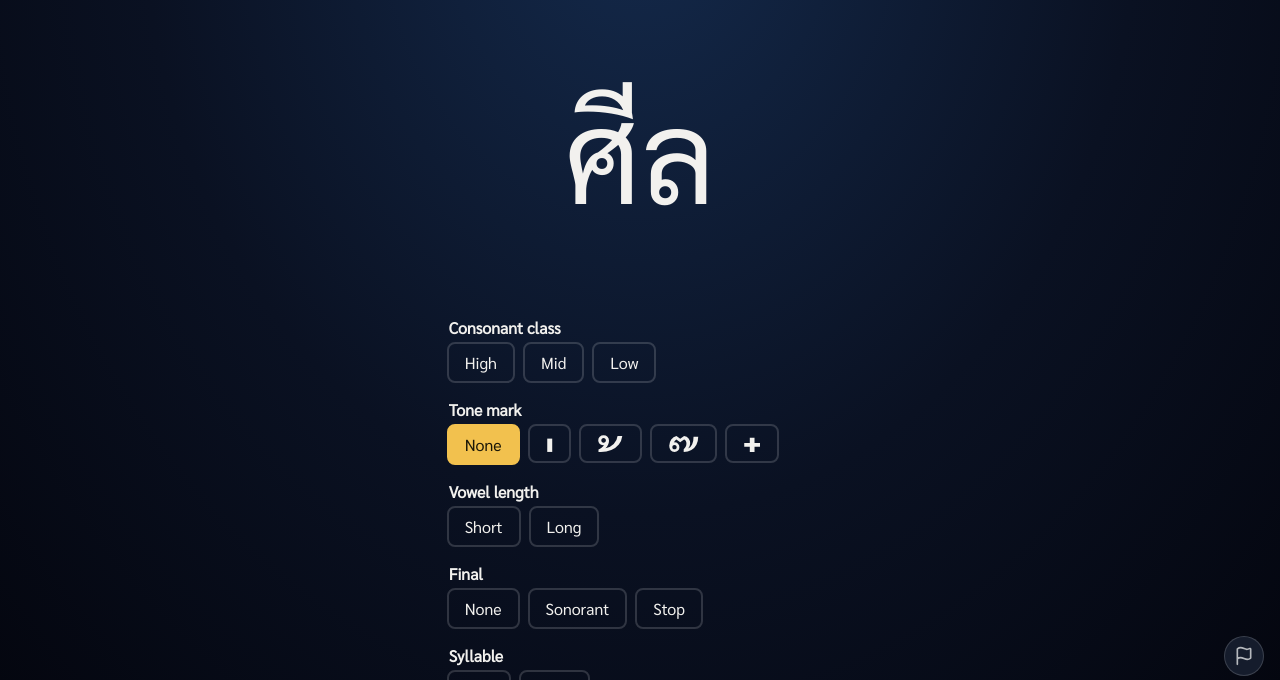
SyllablePage › validating a syllable with no tone mark › can only validate once all six rows have an answer
Click the 1st radio button labelled "High" at {"x": 481, "y": 362}, box x1=447 y1=342 x2=515 y2=383
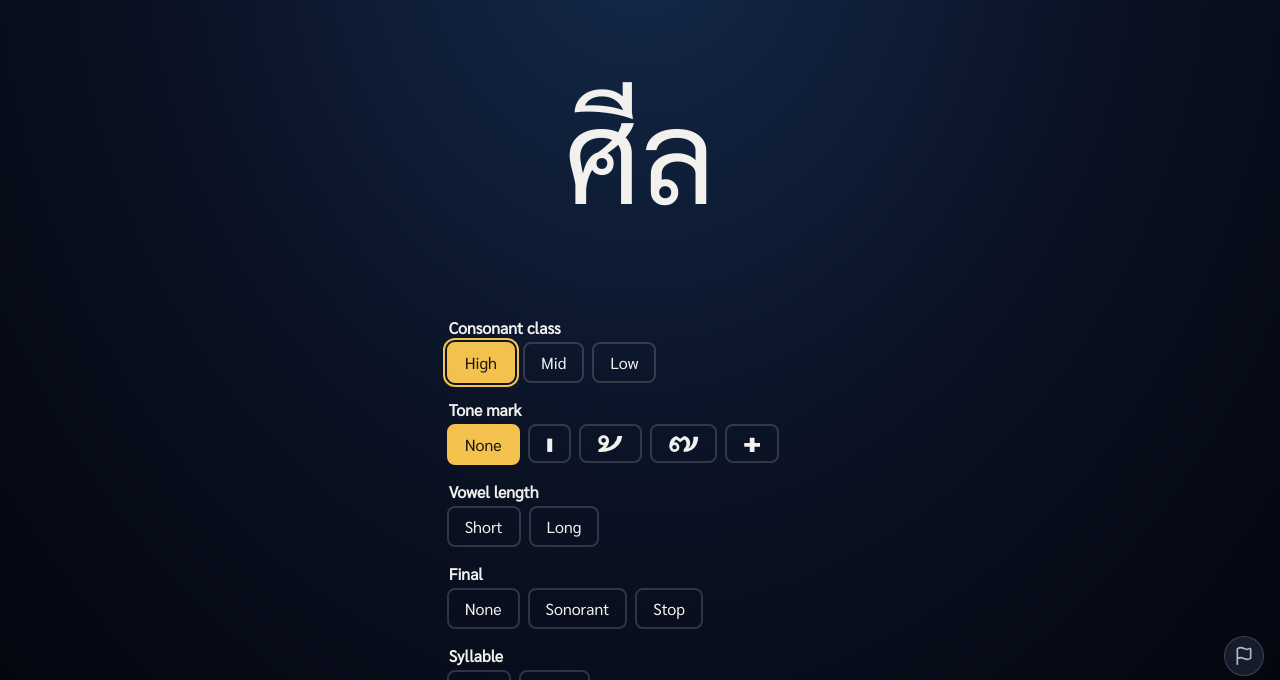
Click the 5th radio button labelled "Long" at {"x": 564, "y": 526}, box x1=529 y1=506 x2=599 y2=547
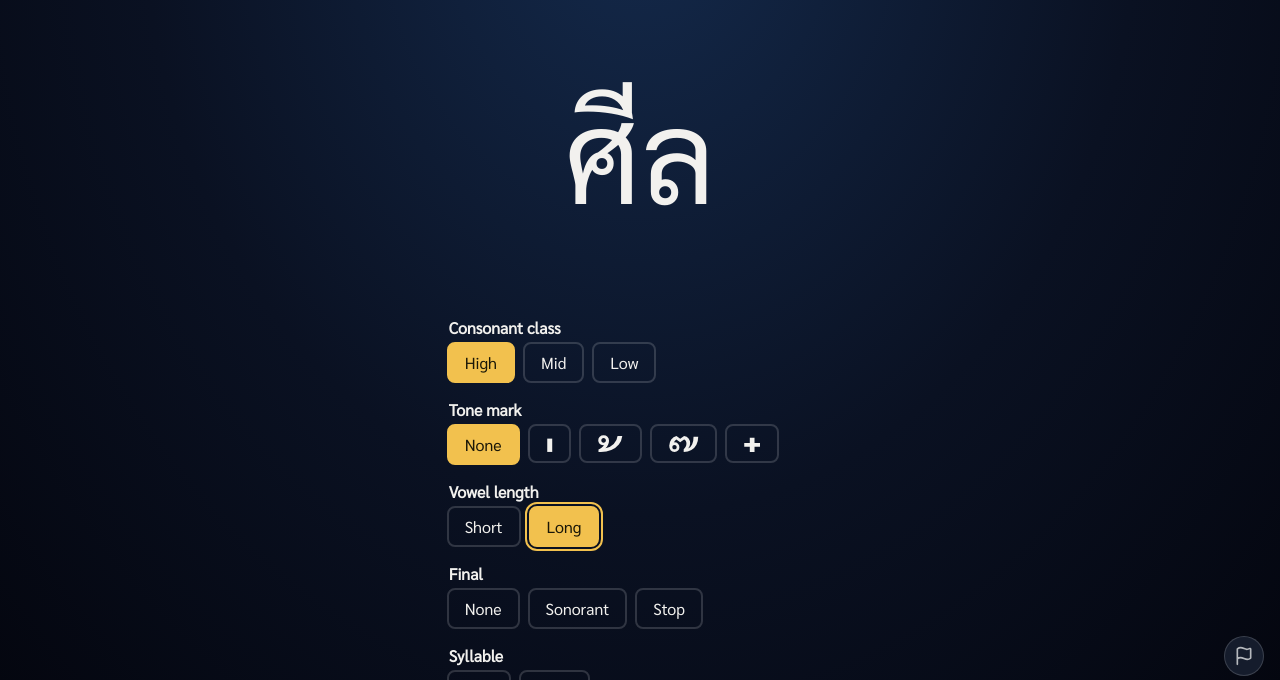
Click the 5th radio button labelled "Sonorant" at {"x": 577, "y": 608}, box x1=528 y1=588 x2=627 y2=629
(page scrolled)
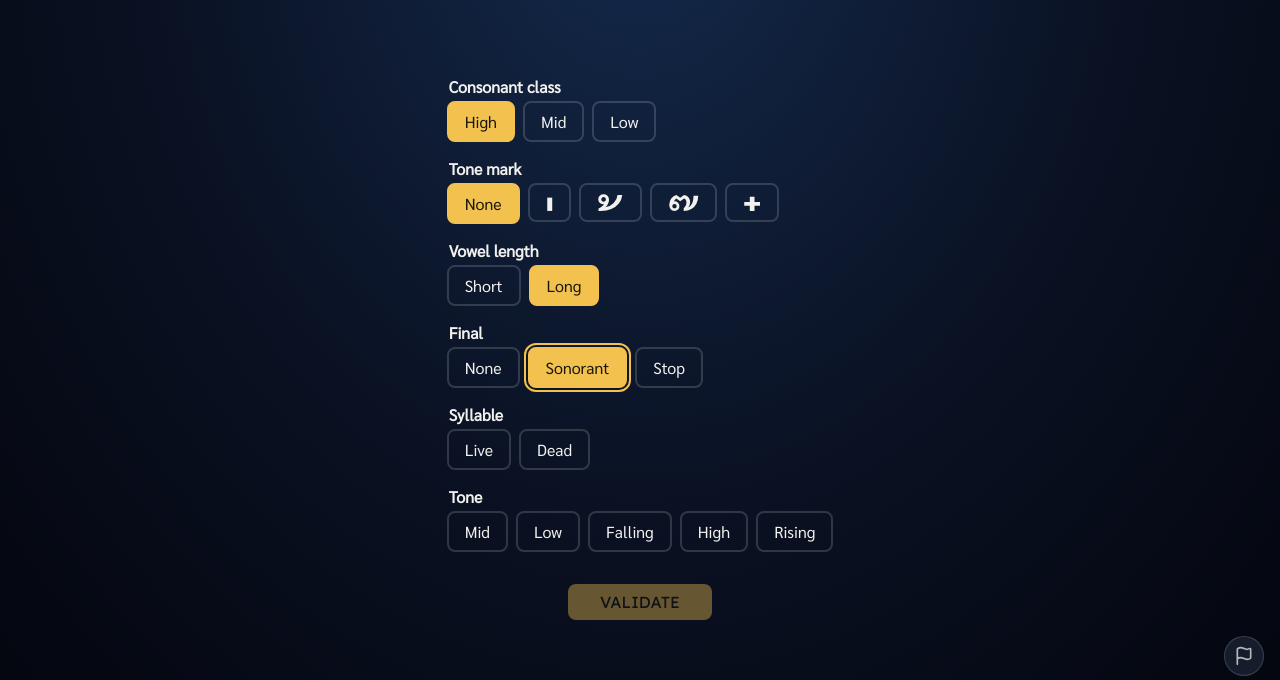
Click the 5th radio button labelled "Live" at {"x": 479, "y": 449}, box x1=447 y1=429 x2=511 y2=470
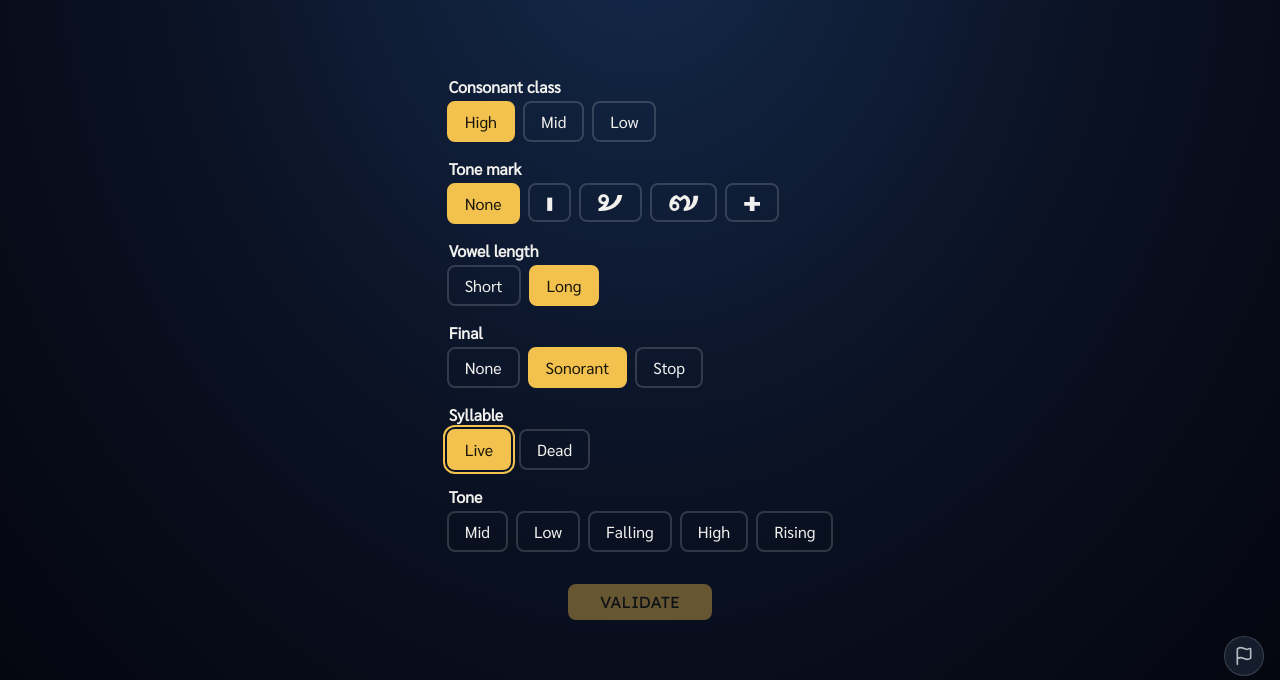
Click the radio button labelled "None" below "Tone mark" at {"x": 483, "y": 203}, box x1=447 y1=183 x2=520 y2=224
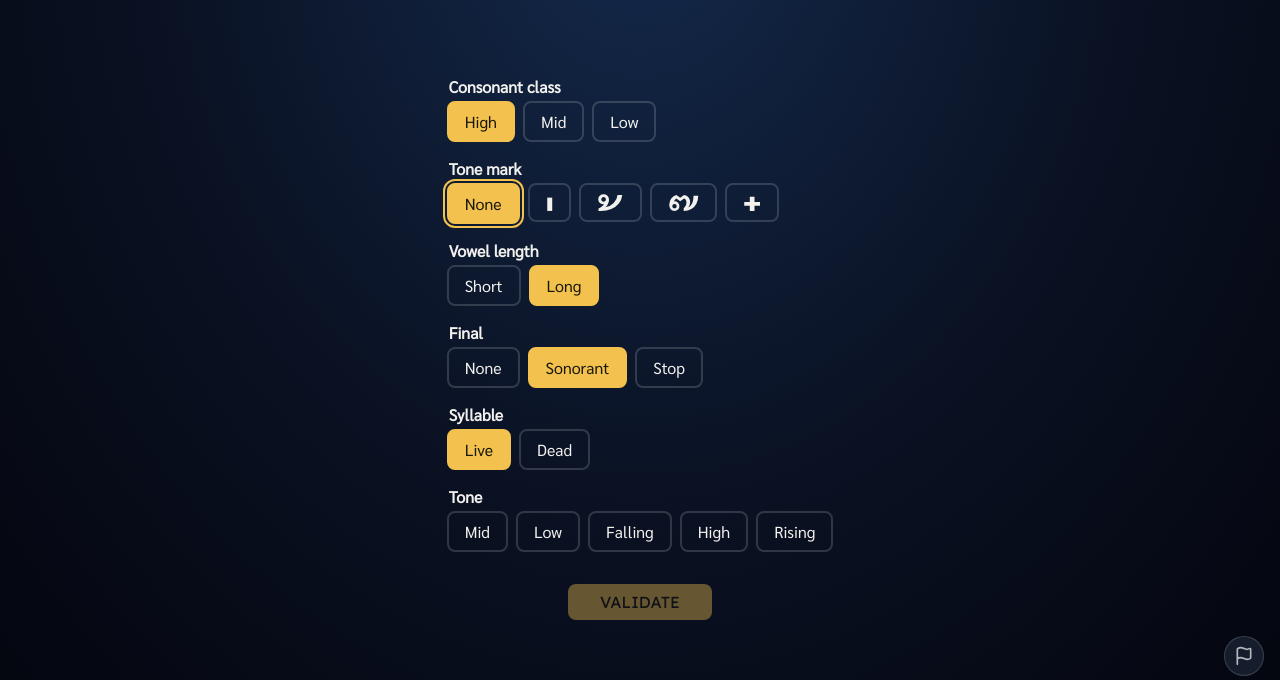
Expected: the button "Validate" is disabled, x1=568 y1=584 x2=712 y2=620
Click the 5th radio button labelled "Rising" at {"x": 795, "y": 531}, box x1=756 y1=511 x2=833 y2=552
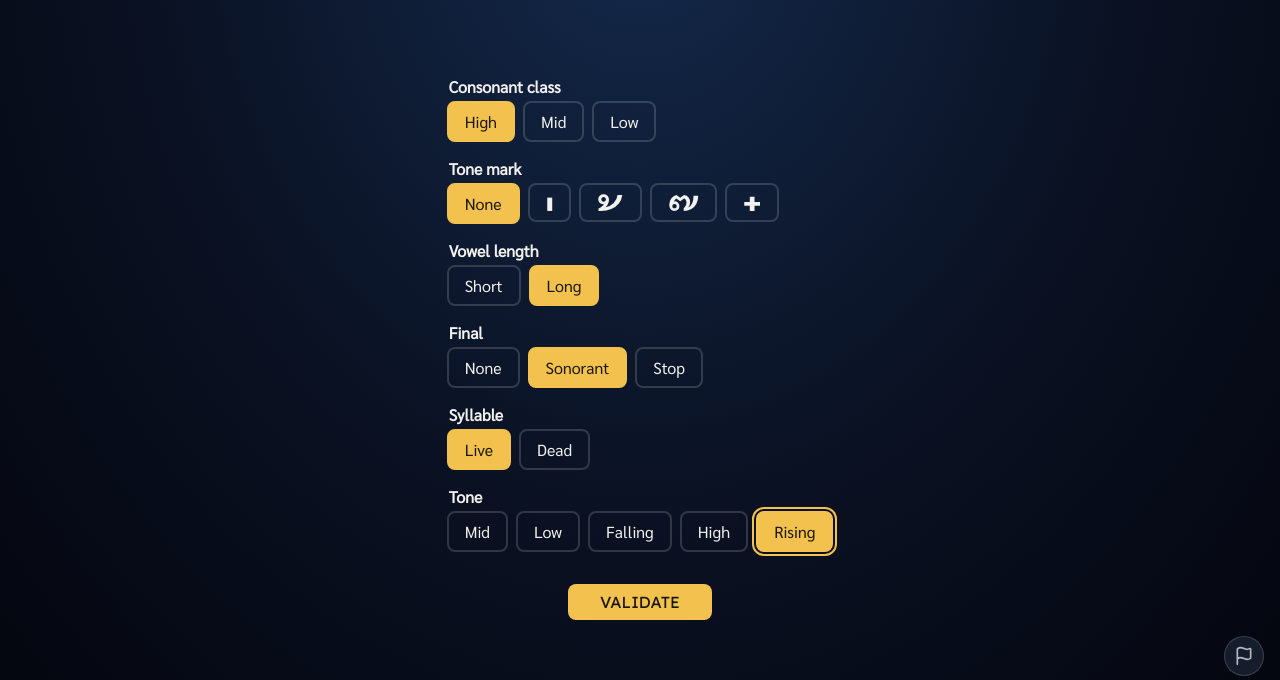
Result: the button "Validate" is enabled at x1=568 y1=584 x2=712 y2=620
